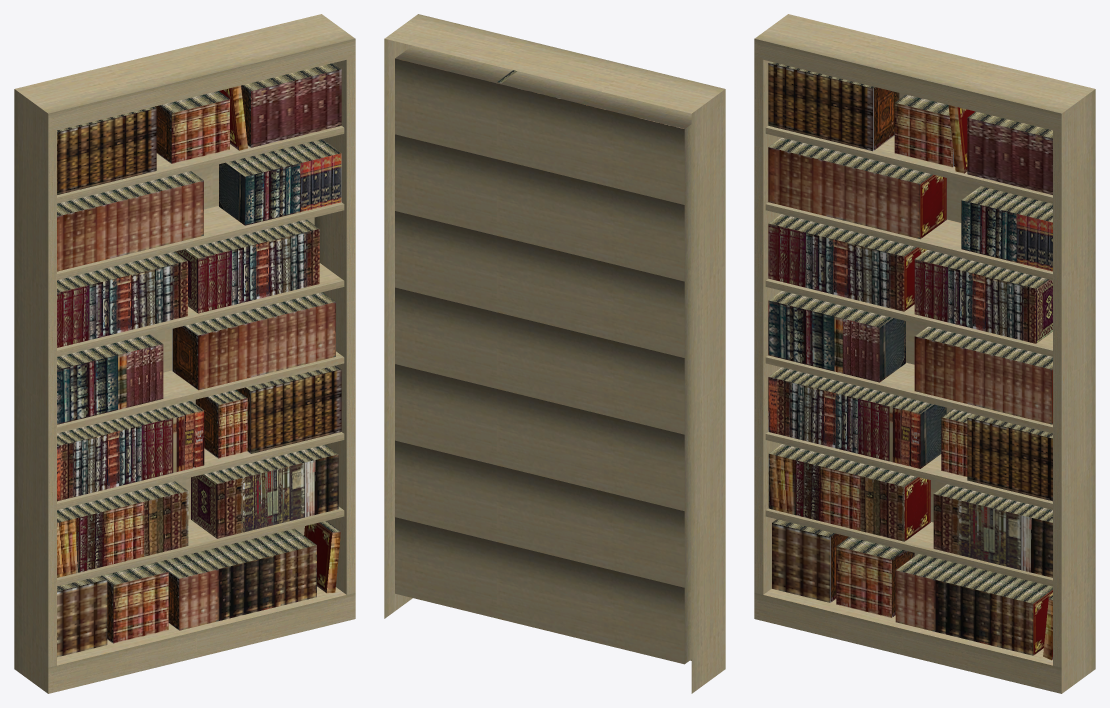
File: bookshelf_merovingian_corner_4.fbx
The picture shows the model from 3 angles, left to right: view 1: azimuth 30°, elevation 25°; view 2: azimuth 150°, elevation 25°; view 3: azimuth 330°, elevation 25°; orthographic projection.
Visible parts, largest first — view 1: mesh_0, mesh_1; view 2: mesh_0; view 3: mesh_0, mesh_1.
Boxes of the visible parts, left/top/right/bottom form: mesh_0: left=14, top=14, right=355, bottom=693; mesh_1: left=57, top=63, right=341, bottom=591; mesh_0: left=384, top=14, right=725, bottom=693; mesh_0: left=754, top=14, right=1095, bottom=693; mesh_1: left=768, top=61, right=1052, bottom=603.
Bounding box in the file's own units: 210 × 379 × 40.
Materials: 2 (2 with a texture image).
